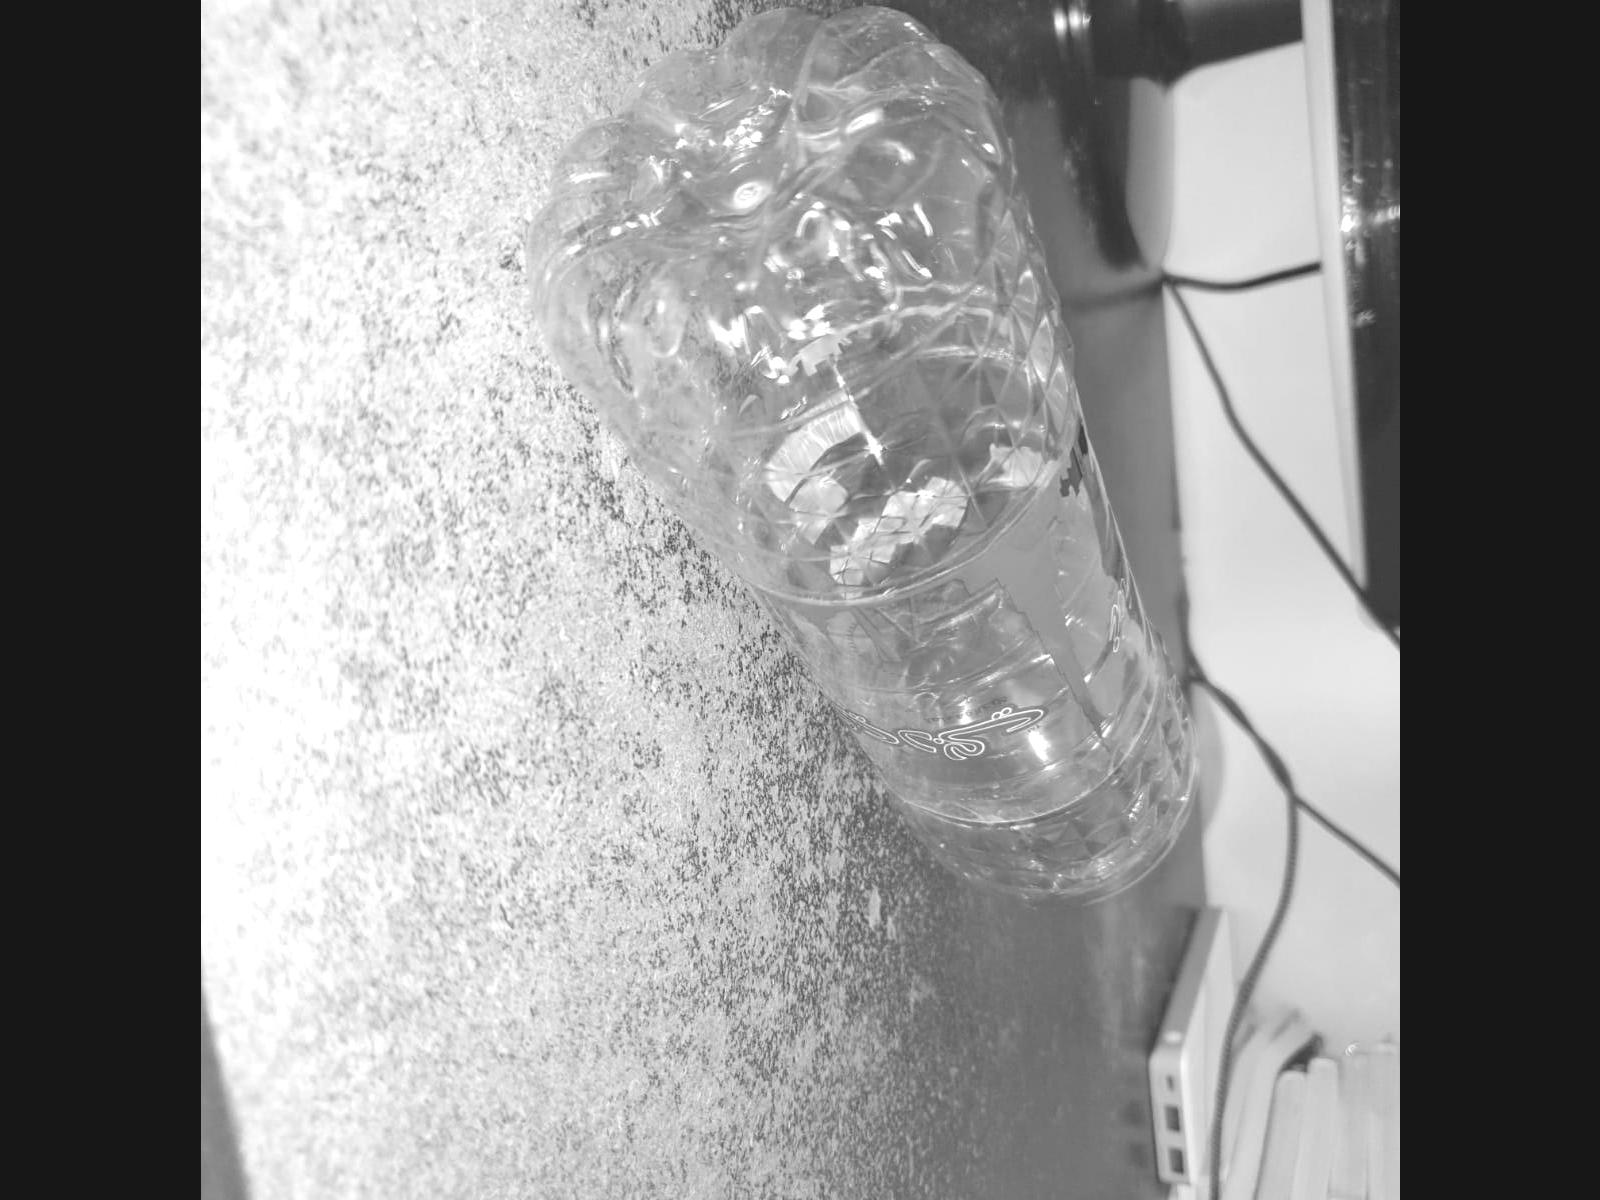bottle: (522, 9, 1207, 946)
